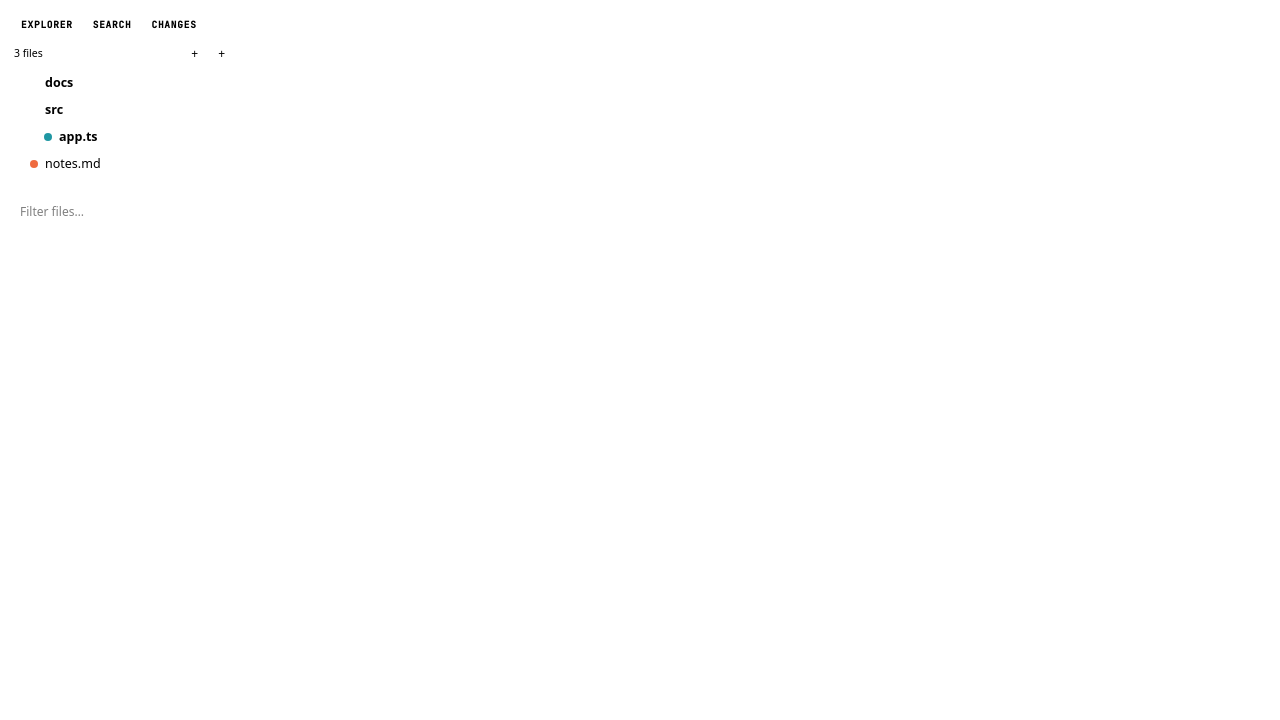
it: D299 nothing moves mid-save › refuses a delete while a file inside is saving
This screenshot has width=1280, height=720.
Press Delete
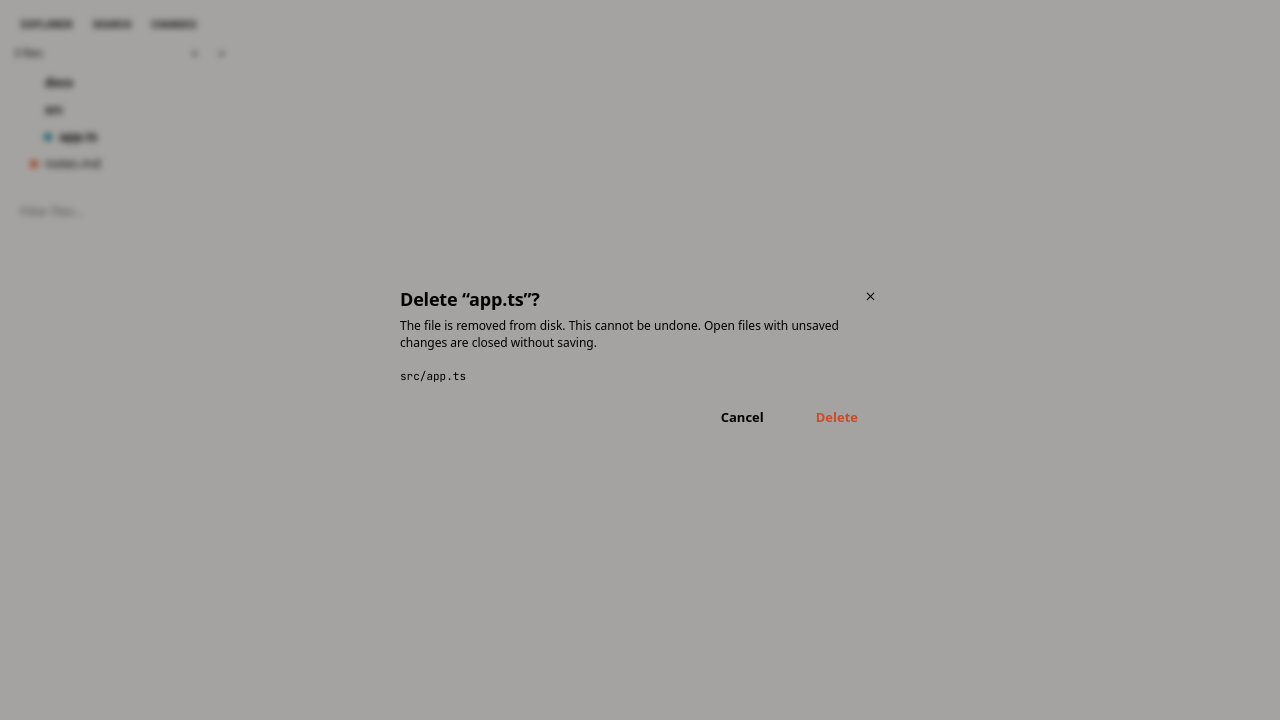
Click the button "Delete".
click(837, 417)  # box x1=794 y1=400 x2=880 y2=434
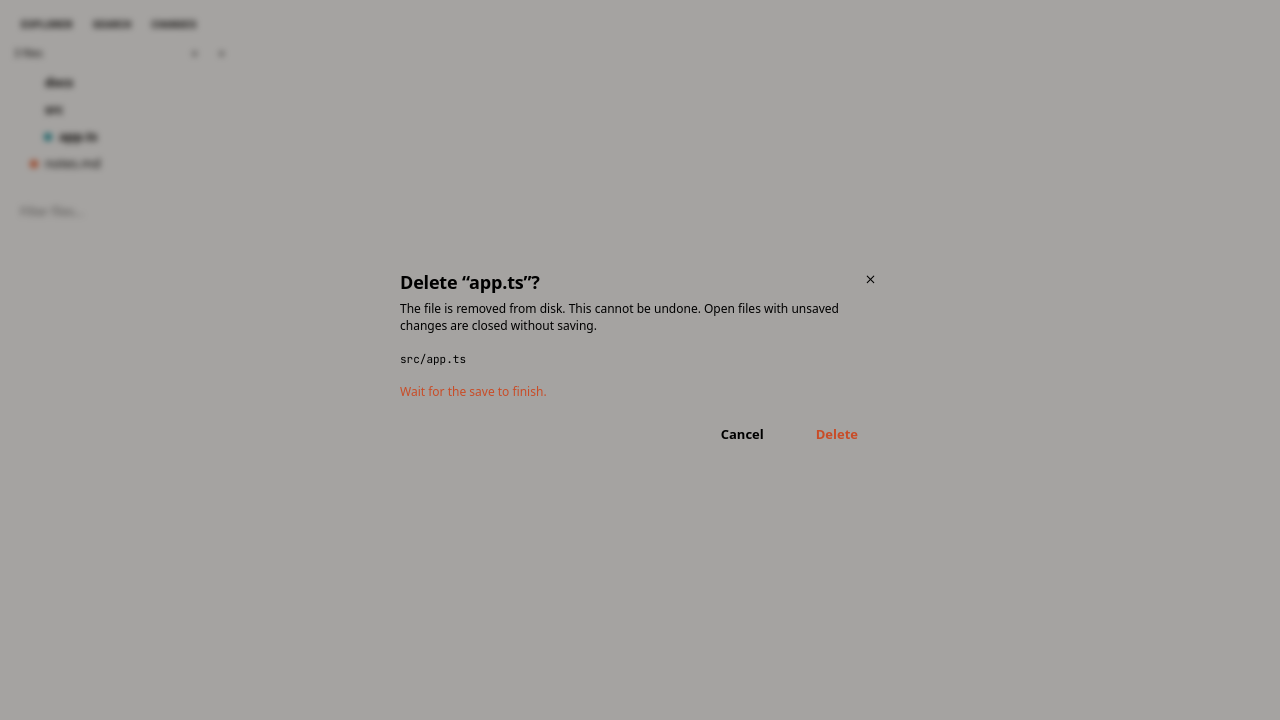
expect the message reads "Wait for the save to finish.": met, box x1=400 y1=383 x2=547 y2=400
